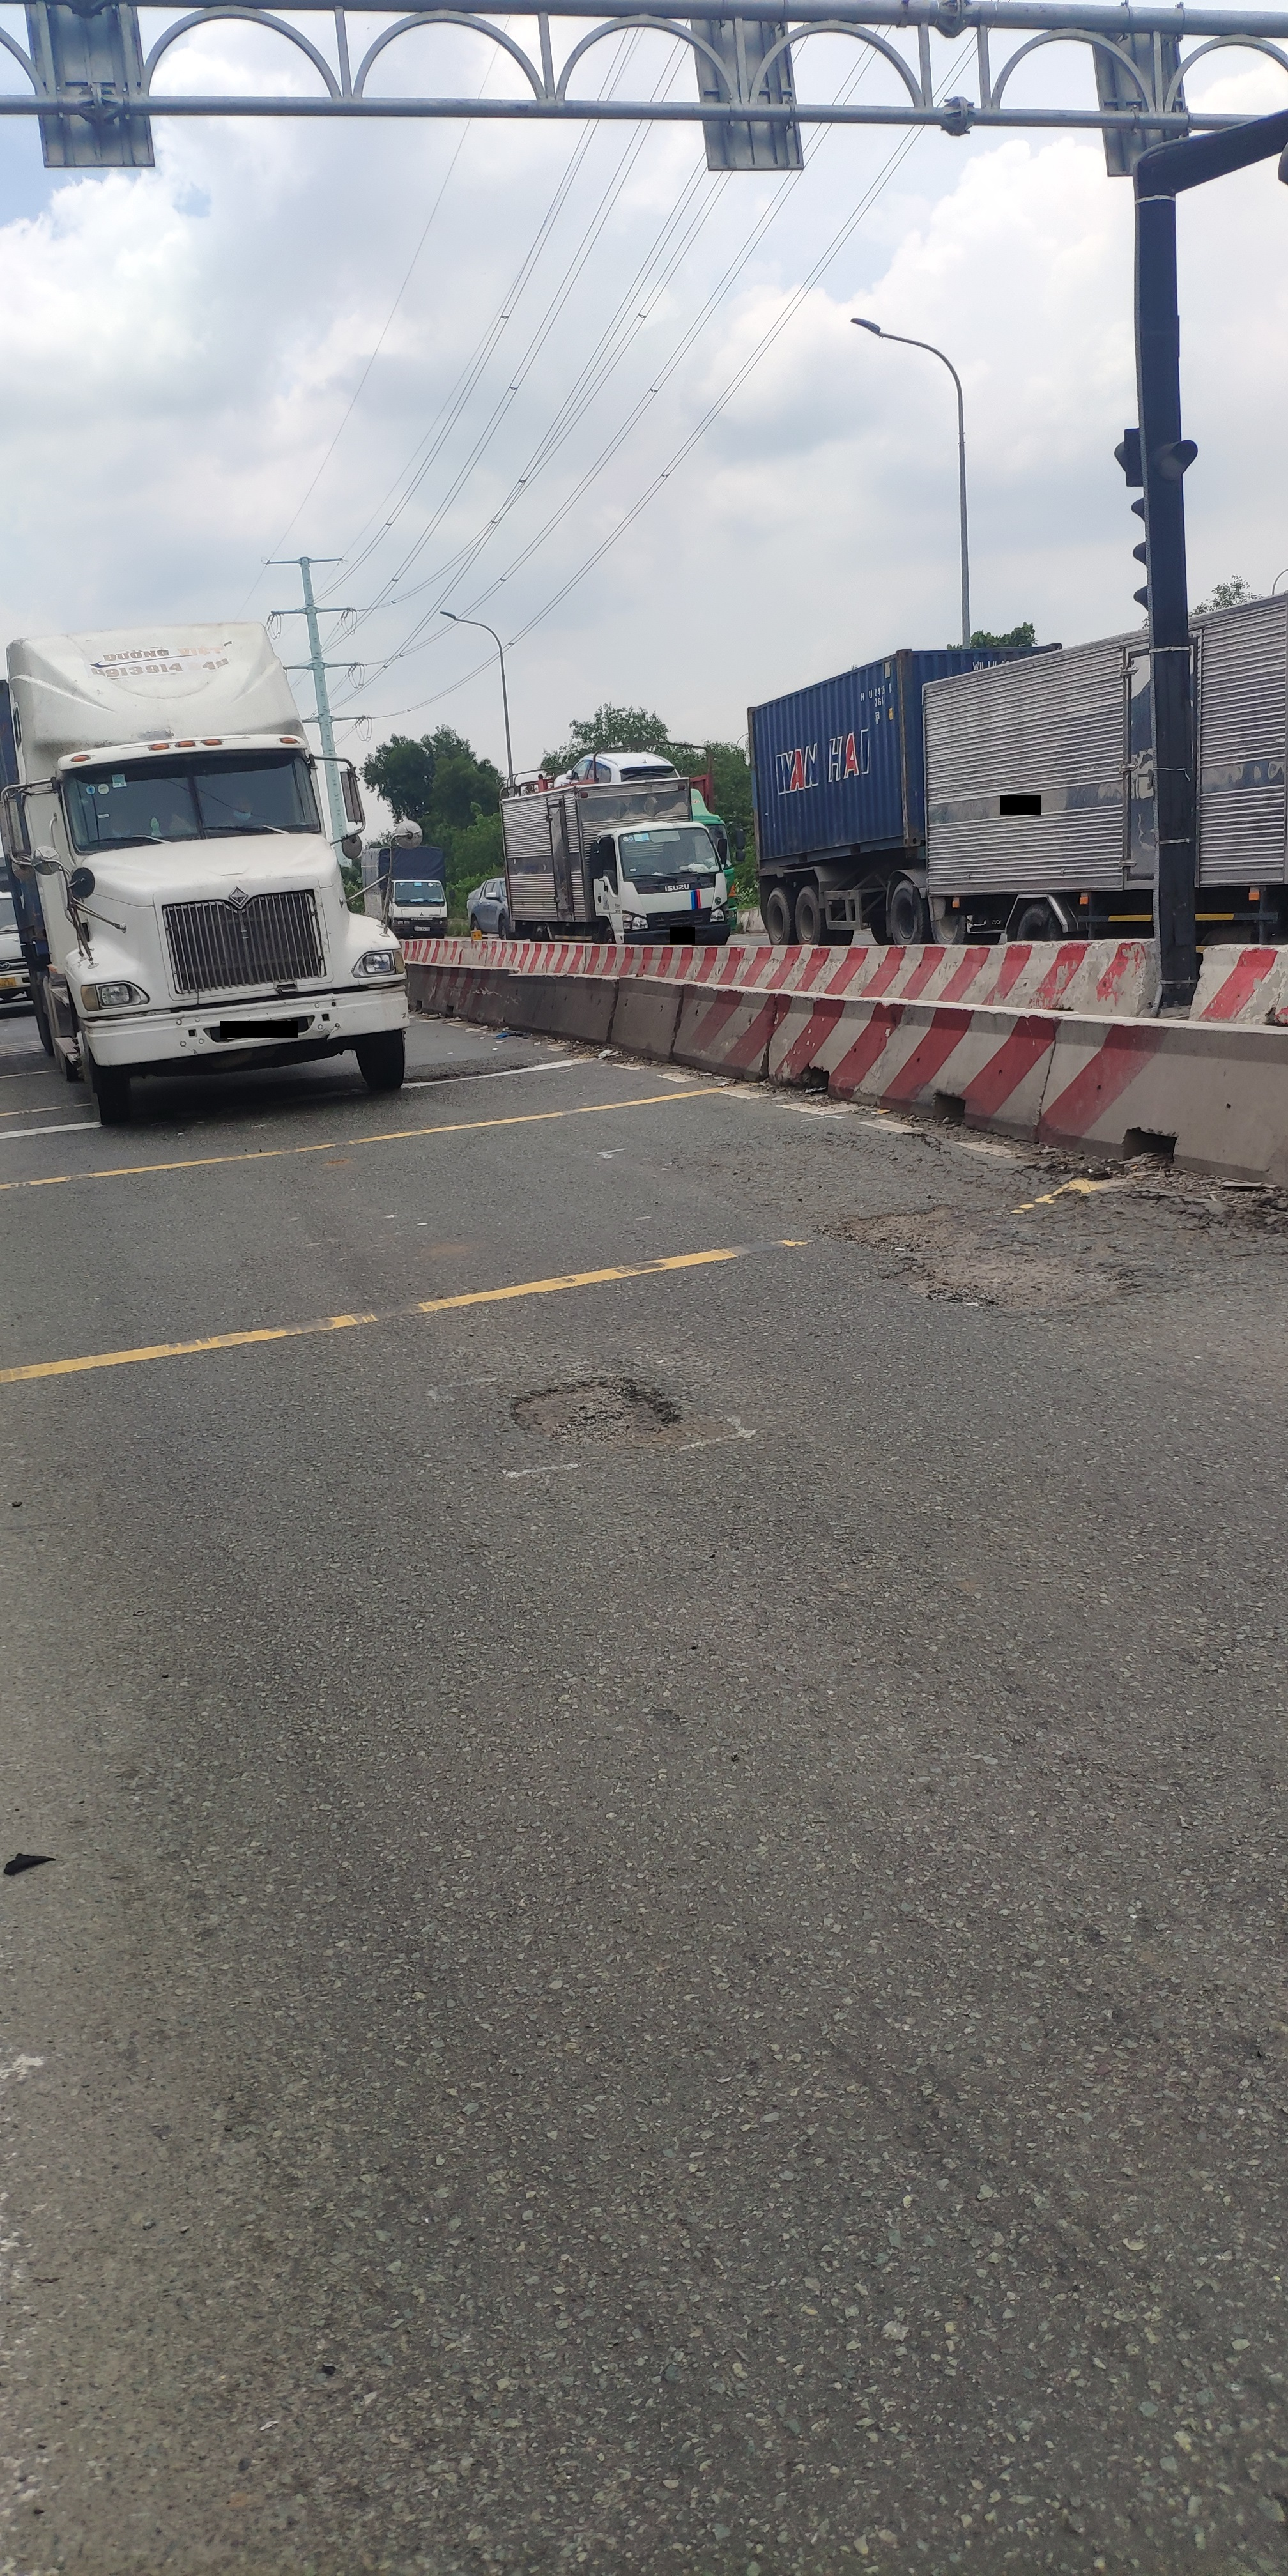hole: (835, 1204, 1153, 1321), (514, 1364, 682, 1467)
